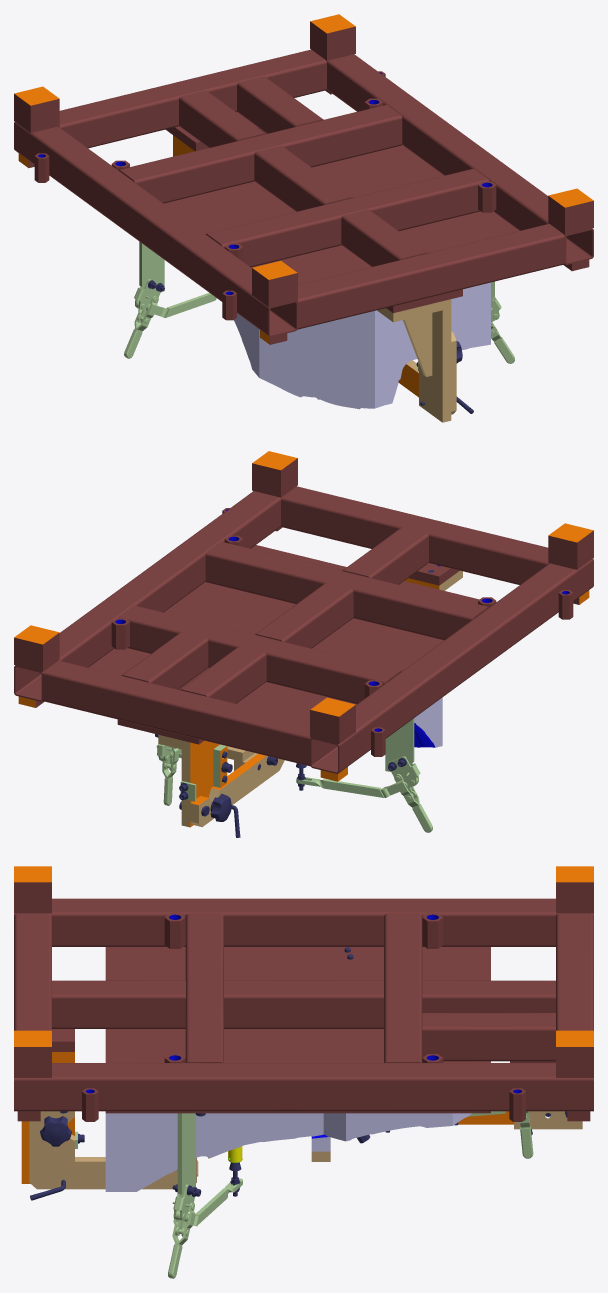
The model's file is FS146010_61674_0G010-001_K00_260609_KEN.obj.
3 views of the same model, one above another, from view 1: azimuth 30°, elevation 25°; view 2: azimuth 150°, elevation 25°; view 3: azimuth 270°, elevation 25° (orthographic). The views are drawn at different scales.
Visible parts, largest first — view 1: Shell_029, Shell_003, Shell_000, Shell_004, Shell_001, Shell_005, Shell_006, Shell_002, Shell_008, Shell_083, Shell_007, Shell_016 (+10 smaller); view 2: Shell_003, Shell_002, Shell_000, Shell_001, Shell_006, Shell_004, Shell_005, Shell_008, Shell_009, Shell_016, Shell_007, Shell_043 (+13 smaller); view 3: Shell_001, Shell_003, Shell_000, Shell_029, Shell_008, Shell_007, Shell_016, Shell_005, Shell_006, Shell_002, Shell_004, Shell_009 (+15 smaller).
Boxes of the visible parts, left/top/right/bottom form: Shell_029: left=234, top=282, right=490, bottom=409; Shell_003: left=14, top=122, right=297, bottom=337; Shell_000: left=130, top=112, right=519, bottom=284; Shell_004: left=296, top=224, right=564, bottom=329; Shell_001: left=326, top=54, right=593, bottom=264; Shell_005: left=118, top=104, right=402, bottom=203; Shell_006: left=206, top=168, right=489, bottom=267; Shell_002: left=58, top=49, right=326, bottom=148; Shell_008: left=254, top=145, right=352, bottom=211; Shell_083: left=377, top=299, right=451, bottom=422; Shell_007: left=341, top=209, right=428, bottom=266; Shell_016: left=237, top=76, right=323, bottom=133; Shell_003: left=310, top=558, right=593, bottom=773; Shell_002: left=43, top=660, right=311, bottom=766; Shell_000: left=88, top=545, right=479, bottom=721; Shell_001: left=14, top=491, right=281, bottom=701; Shell_006: left=205, top=541, right=489, bottom=640; Shell_004: left=281, top=486, right=549, bottom=584; Shell_005: left=119, top=605, right=401, bottom=703; Shell_008: left=255, top=582, right=353, bottom=648; Shell_009: left=180, top=646, right=266, bottom=703; Shell_016: left=121, top=632, right=208, bottom=689; Shell_007: left=342, top=527, right=428, bottom=584; Shell_043: left=190, top=753, right=284, bottom=827; Shell_001: left=14, top=1063, right=593, bottom=1111; Shell_003: left=14, top=898, right=593, bottom=946; Shell_000: left=105, top=947, right=490, bottom=1113; Shell_029: left=105, top=1113, right=471, bottom=1191; Shell_008: left=224, top=980, right=383, bottom=1028; Shell_007: left=52, top=980, right=185, bottom=1028; Shell_016: left=422, top=1013, right=555, bottom=1061; Shell_005: left=384, top=913, right=422, bottom=1062; Shell_006: left=185, top=913, right=223, bottom=1062; Shell_002: left=556, top=913, right=593, bottom=1030; Shell_004: left=14, top=913, right=51, bottom=1030; Shell_009: left=422, top=980, right=555, bottom=1012.
Bounding box in the file's own units: 598 × 346 × 760.
